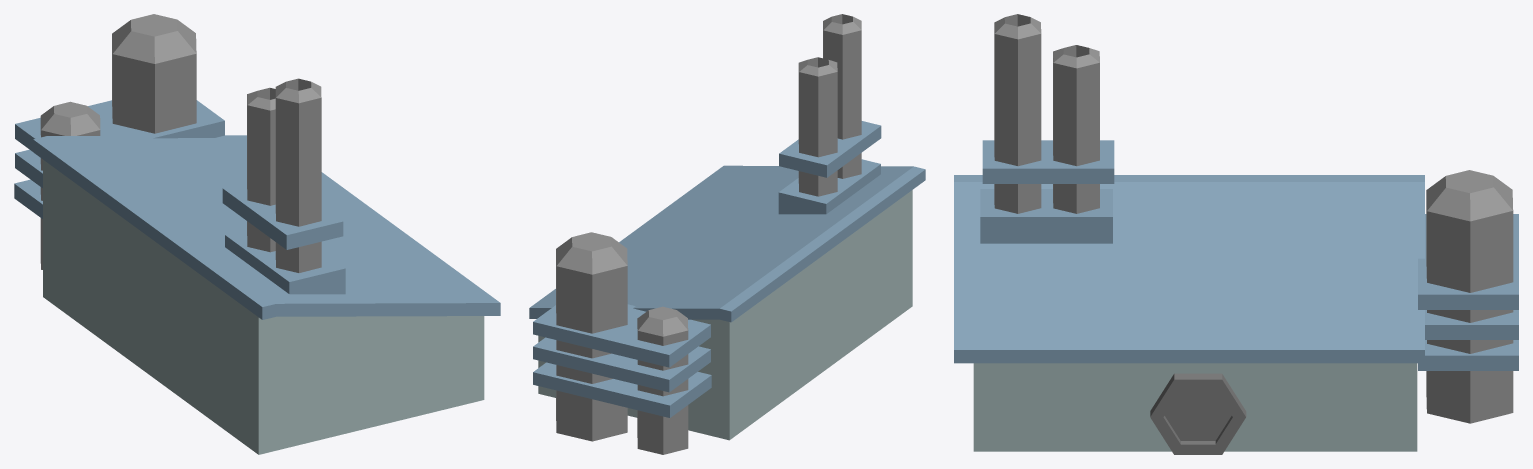
The model's file is usine_civi.fbx.
3 views of the same model, side by side, from view 1: azimuth 30°, elevation 25°; view 2: azimuth 150°, elevation 25°; view 3: azimuth 270°, elevation 25° (orthographic). The views are drawn at different scales.
Parts seen in each view (by area): view 1: Cube, Cube.004, Cylinder, Cylinder.002, Cylinder.003, Cube.005, Cube.006, Cube.003, Cylinder.001, Cube.001, Cube.002; view 2: Cube.004, Cube, Cylinder, Cylinder.003, Cylinder.001, Cube.003, Cylinder.002, Cube.001, Cube.002, Cube.005, Cube.006; view 3: Cube.004, Cube, Cylinder, Cylinder.002, Cylinder.003, Cylinder.004, Cube.005, Cube.006, Cube.003, Cube.001, Cube.002.
Boxes of the visible parts, x1=… form: Cube: x1=43, y1=160, x2=484, y2=454; Cube.004: x1=33, y1=135, x2=500, y2=319; Cylinder: x1=112, y1=14, x2=196, y2=133; Cylinder.002: x1=275, y1=78, x2=321, y2=272; Cylinder.003: x1=247, y1=87, x2=275, y2=252; Cube.005: x1=225, y1=229, x2=345, y2=294; Cube.006: x1=222, y1=182, x2=343, y2=249; Cube.003: x1=15, y1=100, x2=224, y2=151; Cylinder.001: x1=40, y1=101, x2=100, y2=269; Cube.001: x1=14, y1=179, x2=42, y2=218; Cube.002: x1=15, y1=149, x2=42, y2=188; Cube.004: x1=529, y1=165, x2=925, y2=322; Cube: x1=538, y1=190, x2=912, y2=440; Cylinder: x1=556, y1=232, x2=627, y2=441; Cylinder.003: x1=798, y1=57, x2=837, y2=196; Cylinder.001: x1=637, y1=306, x2=688, y2=454; Cube.003: x1=533, y1=304, x2=710, y2=367; Cylinder.002: x1=823, y1=14, x2=861, y2=178; Cube.001: x1=533, y1=362, x2=711, y2=417; Cube.002: x1=533, y1=337, x2=710, y2=392; Cube.005: x1=778, y1=159, x2=880, y2=214; Cube.006: x1=779, y1=121, x2=881, y2=177; Cube.004: x1=954, y1=175, x2=1424, y2=363; Cube: x1=973, y1=363, x2=1417, y2=451; Cylinder: x1=1426, y1=170, x2=1513, y2=423; Cylinder.002: x1=994, y1=14, x2=1041, y2=213; Cylinder.003: x1=1053, y1=45, x2=1099, y2=213; Cylinder.004: x1=1150, y1=373, x2=1246, y2=454; Cube.005: x1=980, y1=189, x2=1112, y2=243; Cube.006: x1=982, y1=140, x2=1114, y2=183; Cube.003: x1=1418, y1=214, x2=1518, y2=309; Cube.001: x1=1418, y1=340, x2=1518, y2=370; Cube.002: x1=1425, y1=310, x2=1518, y2=339.
Bounding box in the file's own units: 436 × 580 × 851.
